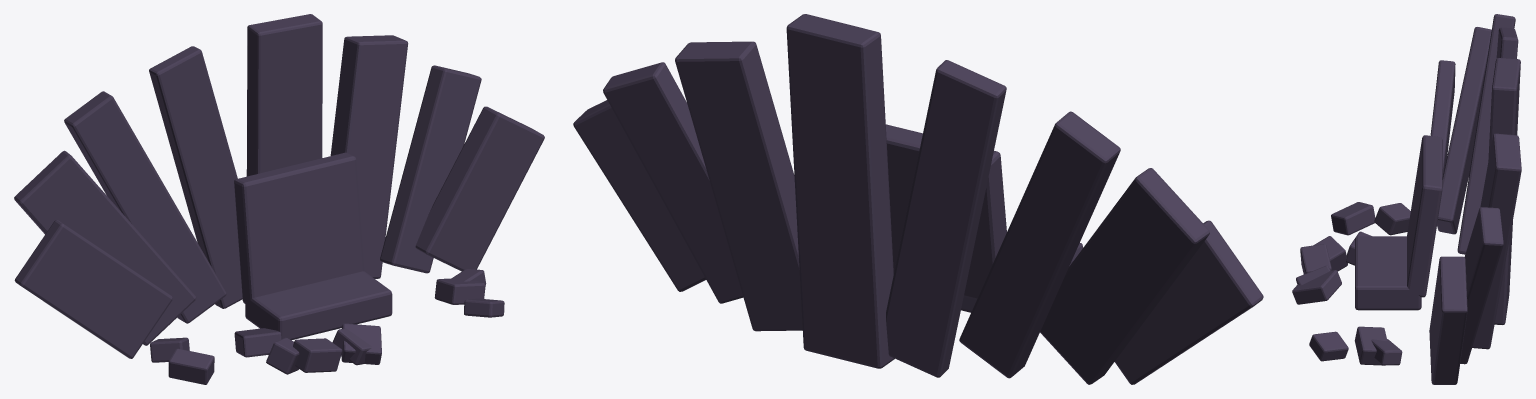
Rendered from Throne_StoneDark.fbx.
The picture shows the model from 3 angles, left to right: view 1: azimuth 30°, elevation 25°; view 2: azimuth 150°, elevation 25°; view 3: azimuth 270°, elevation 25°; orthographic projection. The views are drawn at different scales.
Visible parts, largest first — view 1: ThroneSlab0.001; view 2: ThroneSlab0.001; view 3: ThroneSlab0.001.
Part boxes in pixels (bbox=[...]): ThroneSlab0.001: bbox=[14, 14, 544, 384]; ThroneSlab0.001: bbox=[573, 14, 1263, 384]; ThroneSlab0.001: bbox=[1292, 14, 1521, 384].
Size of the model in its own units: 5538 by 2642 by 2234.
